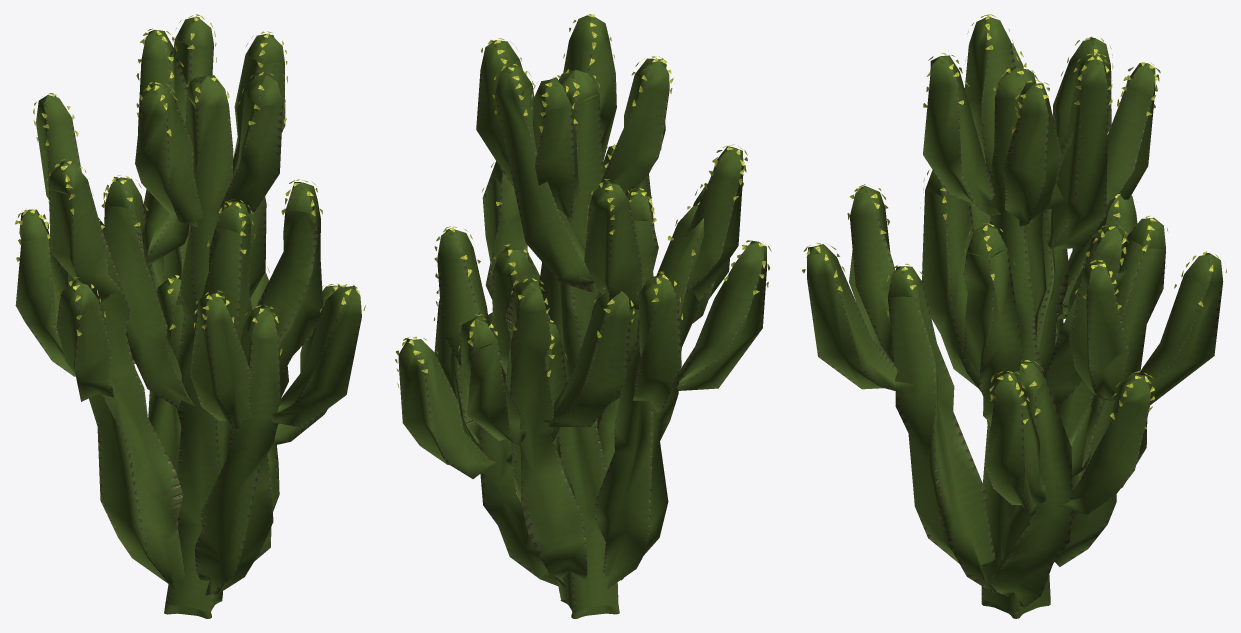
The model's file is cand6.glb.
The picture shows the model from 3 angles, left to right: view 1: azimuth 30°, elevation 25°; view 2: azimuth 150°, elevation 25°; view 3: azimuth 270°, elevation 25°; orthographic projection. The views are drawn at different scales.
Visible parts, largest first — view 1: Euphorbia_candelabrum_HD; view 2: Euphorbia_candelabrum_HD; view 3: Euphorbia_candelabrum_HD.
Boxes of the visible parts, x1,y1,x2,y2 form: Euphorbia_candelabrum_HD: [15, 14, 365, 618]; Euphorbia_candelabrum_HD: [395, 14, 771, 618]; Euphorbia_candelabrum_HD: [802, 14, 1226, 618].
Bounding box in the file's own units: 0.5298 × 0.9152 × 0.6185.
Materials: 3 (3 with a texture image).
